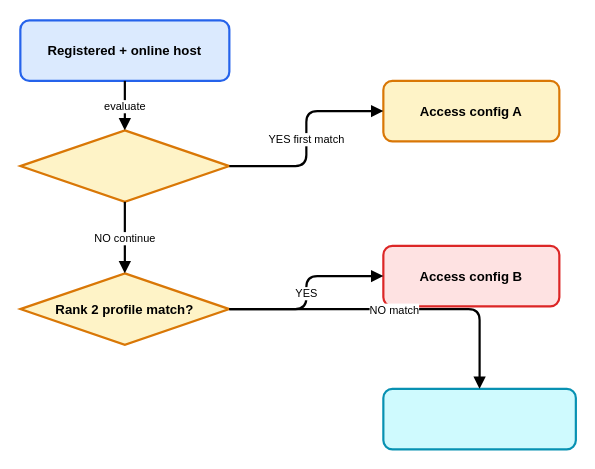
Image size: 595x469. Some labels were removed from this diagram. The shapes that lost their labels are listed below. From the top down, each one's box as (x1, y1, x2, y2) in pixels, then its label:
(19, 129, 230, 202): Rank 1 profile match?
(382, 387, 576, 450): Default switch VLAN
